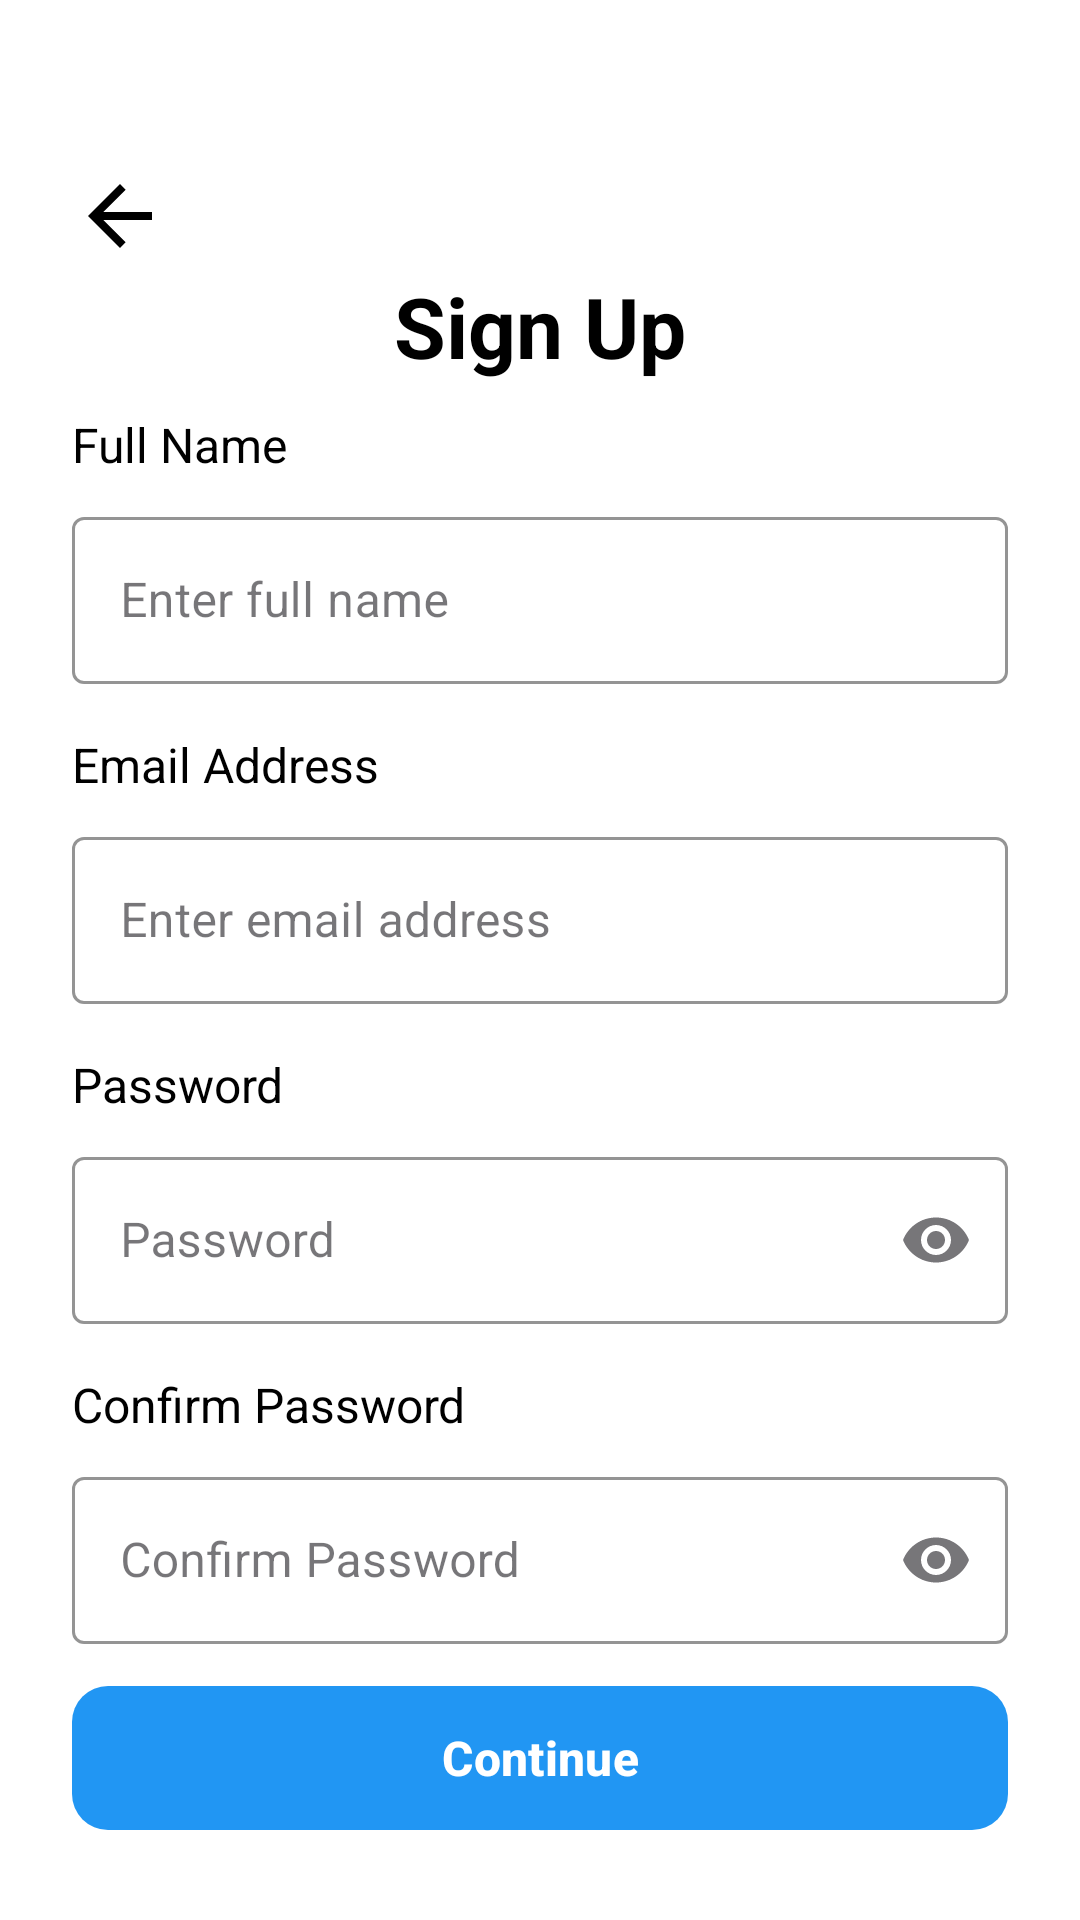

Where to tap for icons on this 1080 x 1920 app screen, as (x=x, y=y):
arrow back: (x=120, y=216)
